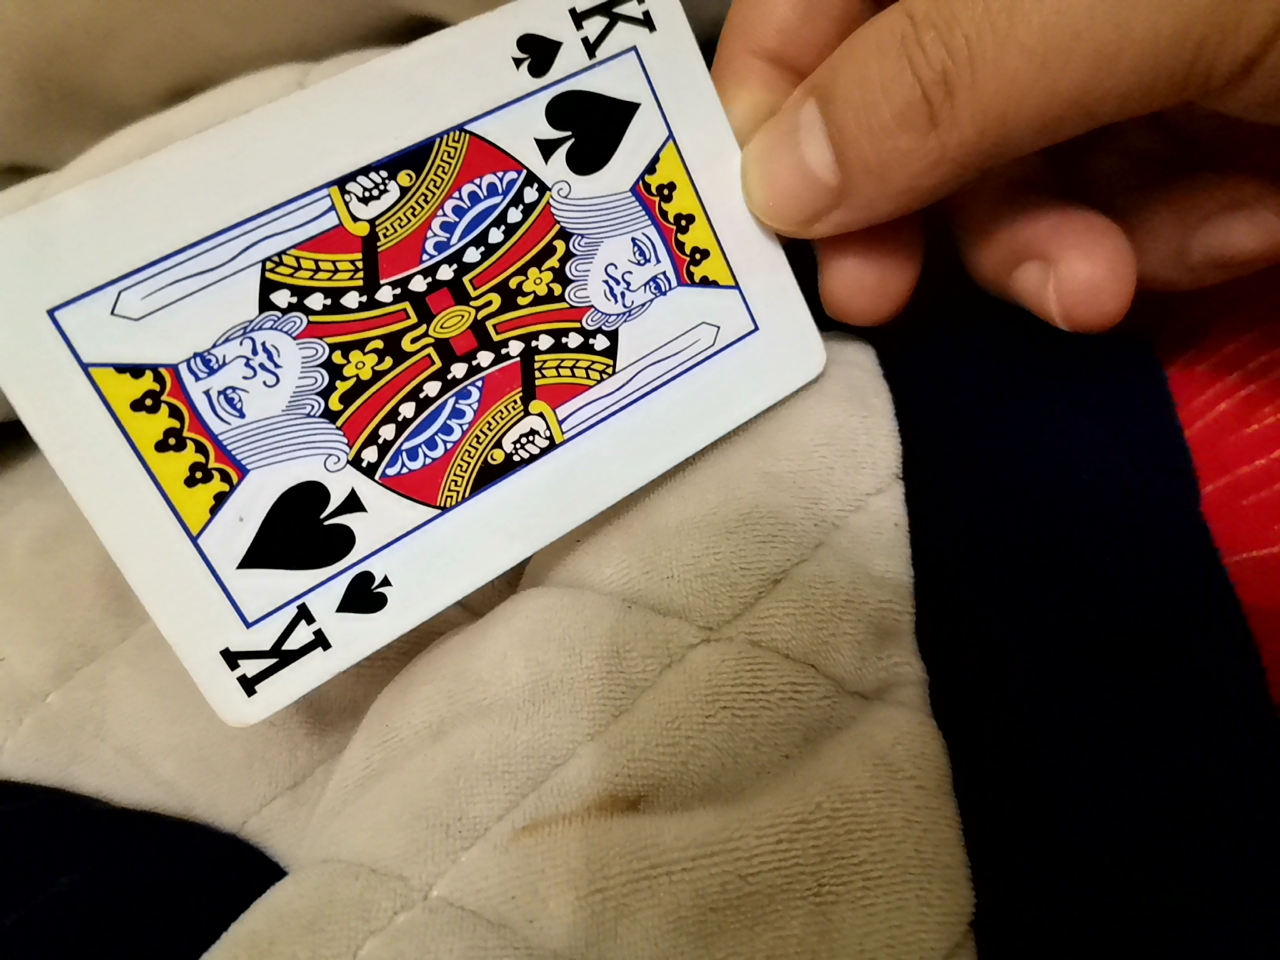ht k: (6, 6, 912, 740)
